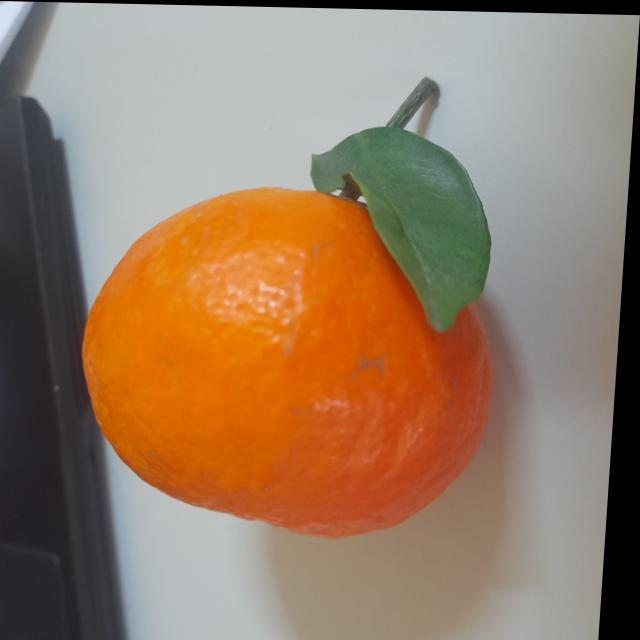Cam: (73, 66, 547, 540)
